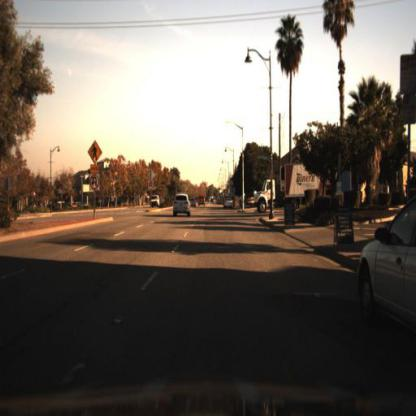car: (357, 203, 416, 349), (168, 188, 196, 221), (222, 194, 238, 212), (149, 191, 163, 210), (150, 194, 163, 210), (198, 193, 208, 209)
truck: (250, 154, 337, 220), (253, 160, 336, 218)
